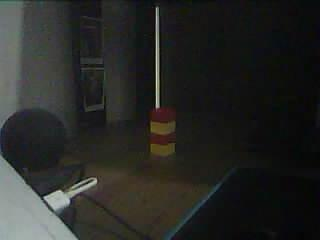lego: (149, 108, 176, 156)
